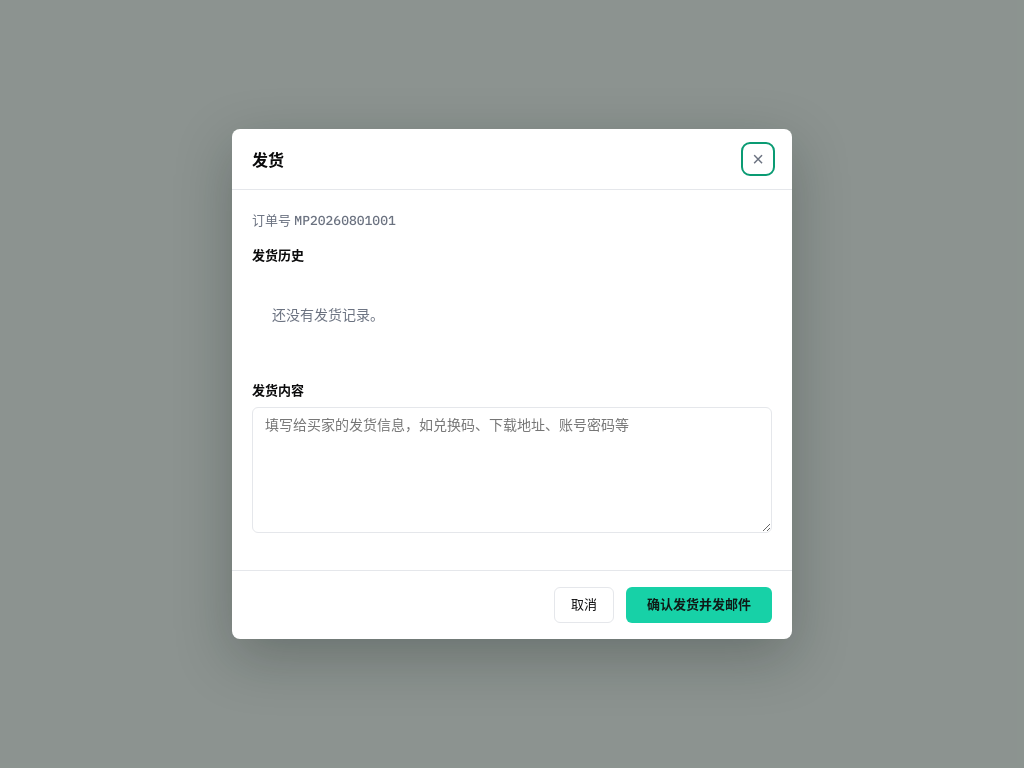
Scenario: 提交校验 › 发货内容为空时拦下，不发请求
Click the button "确认发货并发邮件" at (699, 605), box [626, 587, 772, 623]
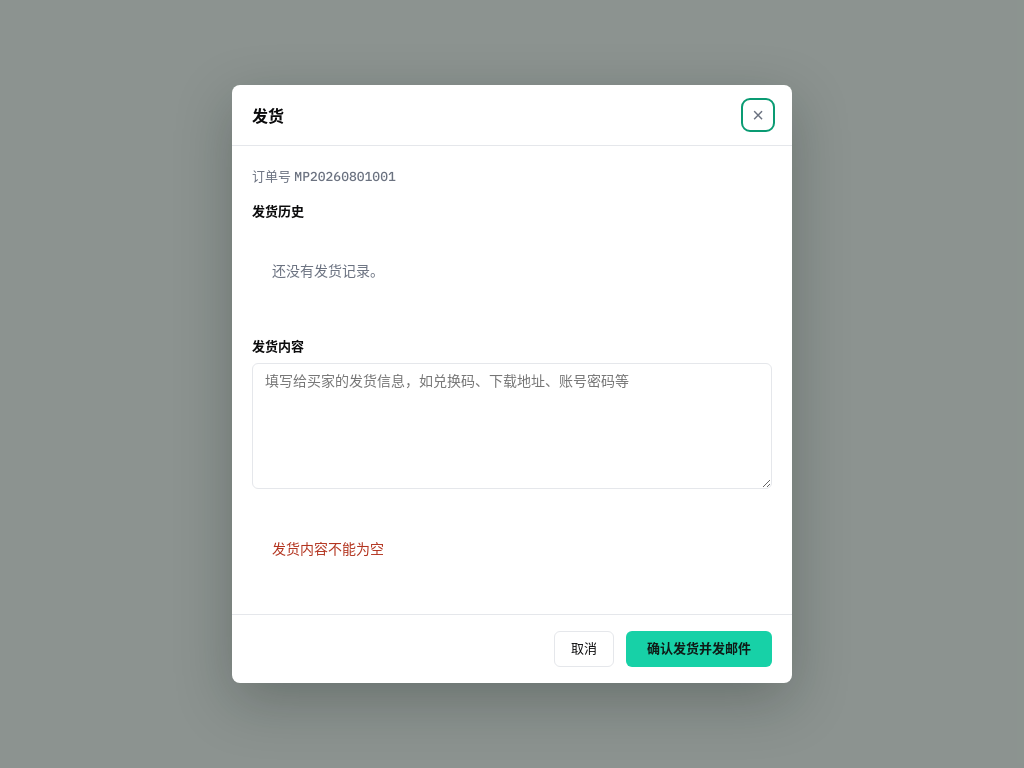
expect the text with class "error" reads "发货内容不能为空": met, box [272, 540, 384, 558]
